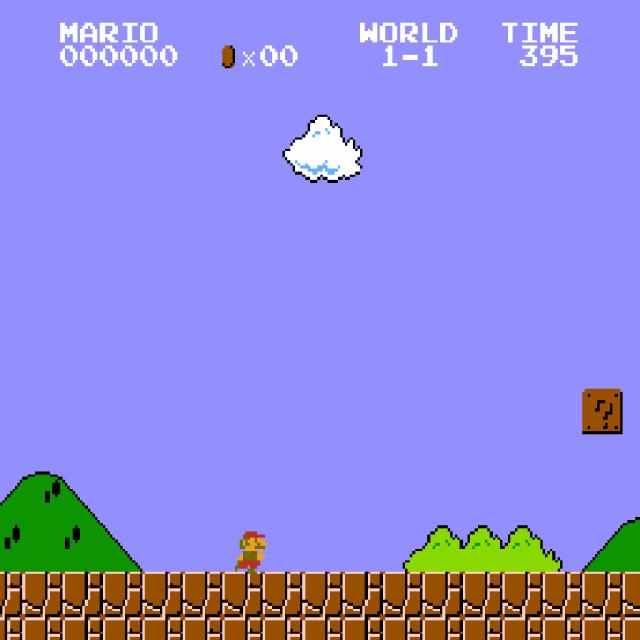little_mario: (228, 526, 270, 574)
mystery_block: (582, 389, 623, 434)
undestructible_block: (22, 572, 63, 617), (62, 572, 103, 617), (102, 572, 143, 617), (142, 572, 183, 617), (182, 572, 223, 617), (222, 572, 263, 617), (262, 572, 303, 617), (302, 572, 343, 617), (342, 572, 383, 617), (382, 572, 423, 617), (422, 572, 463, 617), (462, 572, 503, 617), (502, 572, 543, 617), (542, 572, 583, 617), (582, 572, 623, 617), (0, 572, 22, 617), (22, 617, 63, 640), (62, 617, 103, 640), (102, 617, 143, 640), (142, 617, 183, 640), (182, 617, 223, 640), (222, 617, 263, 640), (262, 617, 303, 640), (302, 617, 343, 640), (342, 617, 383, 640), (382, 617, 423, 640), (422, 617, 463, 640), (462, 617, 503, 640), (502, 617, 543, 640), (542, 617, 583, 640), (582, 617, 623, 640), (622, 571, 640, 617), (0, 617, 22, 640), (622, 617, 640, 639)
